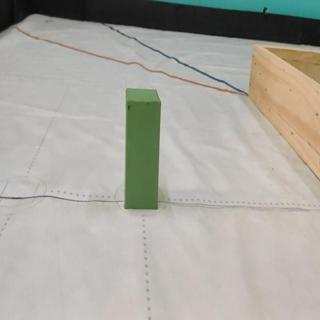greenbox: (124, 85, 162, 209)
